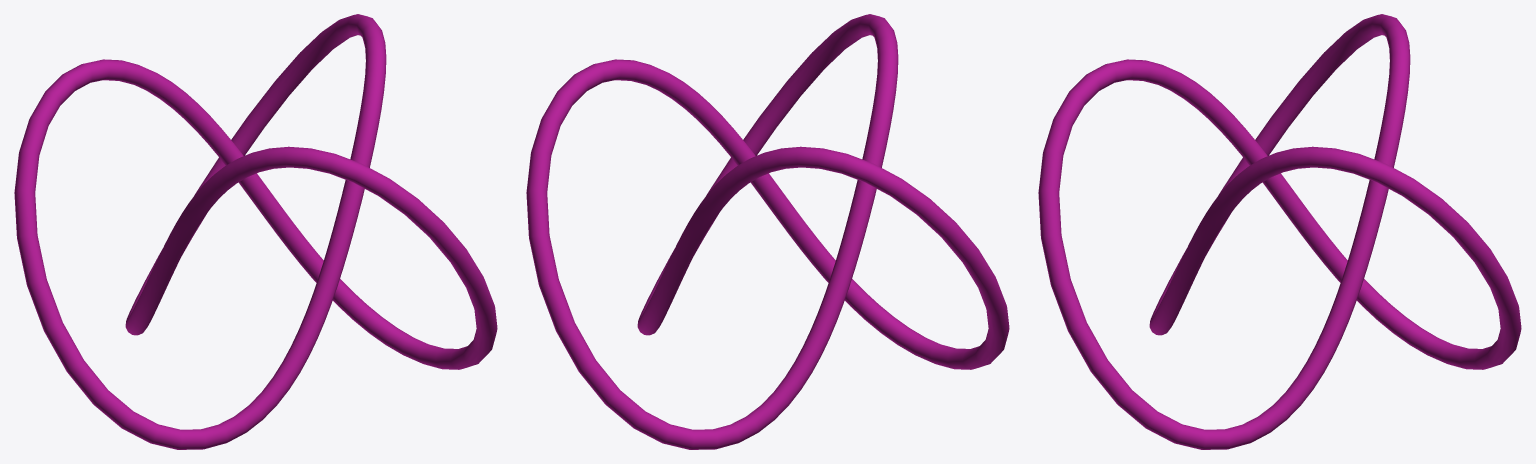
Rendered from knot.obj.
3 views of the same model, side by side, from view 1: azimuth 30°, elevation 25°; view 2: azimuth 150°, elevation 25°; view 3: azimuth 270°, elevation 25° (orthographic).
Visible parts, largest first — view 1: Torus_Knot001; view 2: Torus_Knot001; view 3: Torus_Knot001.
Boxes of the visible parts, x1,y1,x2,y2 form: Torus_Knot001: (14, 14, 497, 449); Torus_Knot001: (526, 14, 1009, 449); Torus_Knot001: (1038, 14, 1521, 449).
Size of the model in its own units: 261 by 192 by 280.
